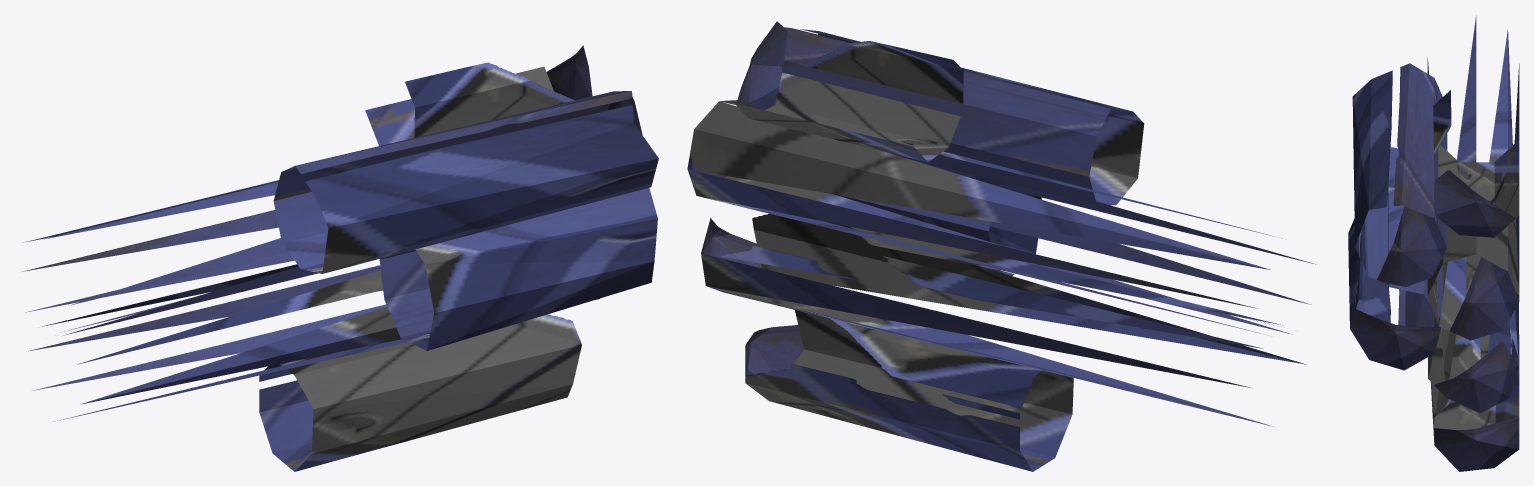
The picture shows the model from 3 angles, left to right: view 1: azimuth 30°, elevation 25°; view 2: azimuth 150°, elevation 25°; view 3: azimuth 270°, elevation 25°; orthographic projection. The views are drawn at different scales.
Size of the model in its own units: 1.66 by 1.02 by 0.4869.
